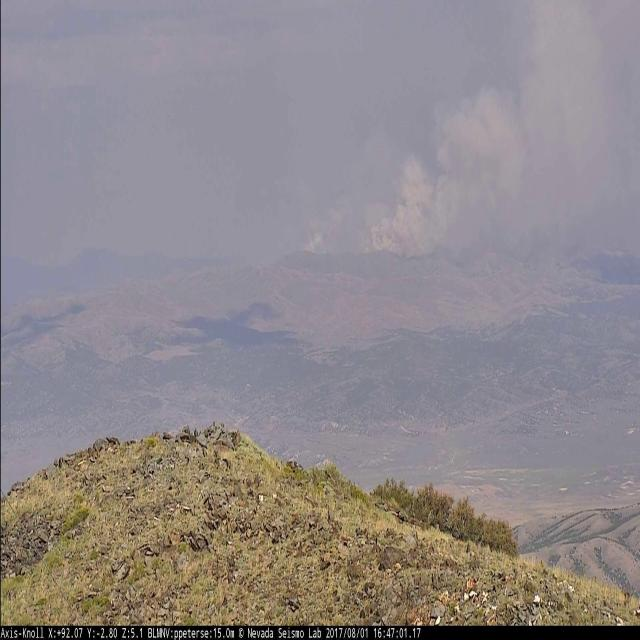smoke: (297, 0, 639, 258)
